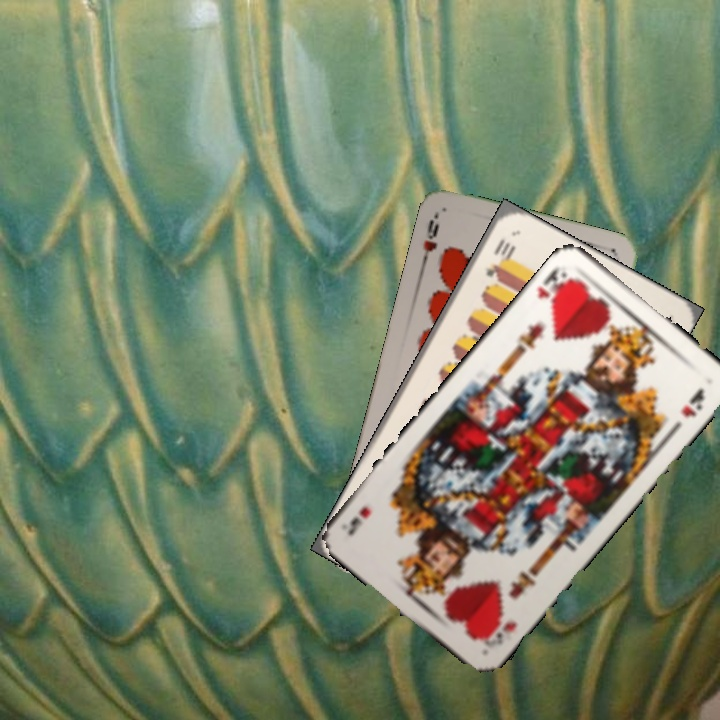E10: (481, 235, 516, 280)
H9: (418, 210, 442, 269)
HK: (533, 262, 575, 306), (483, 615, 520, 650)
